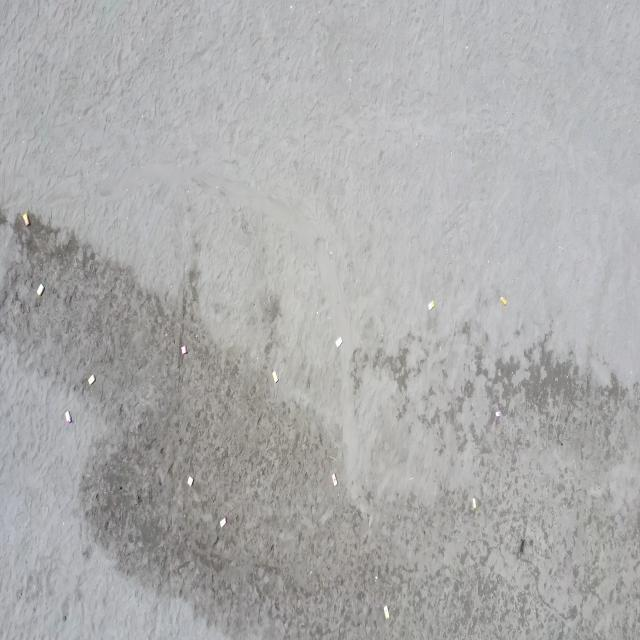Garbage: (20, 211, 30, 224), (64, 409, 71, 423), (87, 373, 95, 384), (36, 283, 43, 295), (272, 369, 278, 382), (180, 344, 187, 355), (335, 336, 342, 347), (219, 516, 226, 527), (427, 301, 435, 310), (499, 296, 507, 304), (520, 539, 524, 553), (187, 475, 192, 486), (471, 496, 475, 508), (384, 604, 387, 619), (332, 472, 335, 486), (495, 409, 500, 416), (373, 575, 376, 580)
